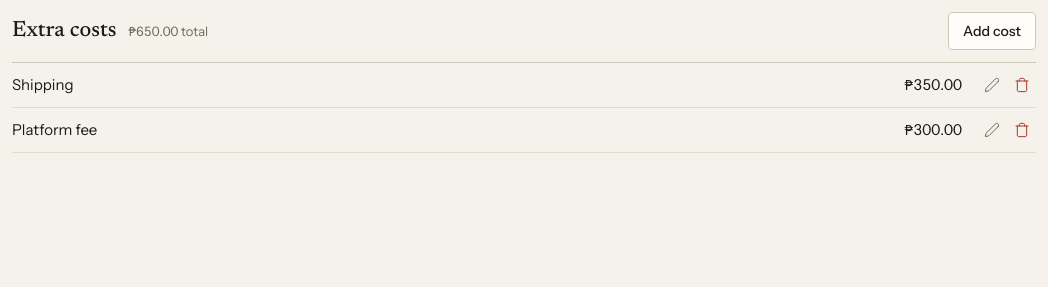
Test: editing a cost patches it and refreshes
The image size is (1048, 287).
Click the button named "Edit Shipping" at (992, 85), box [978,71,1006,99]
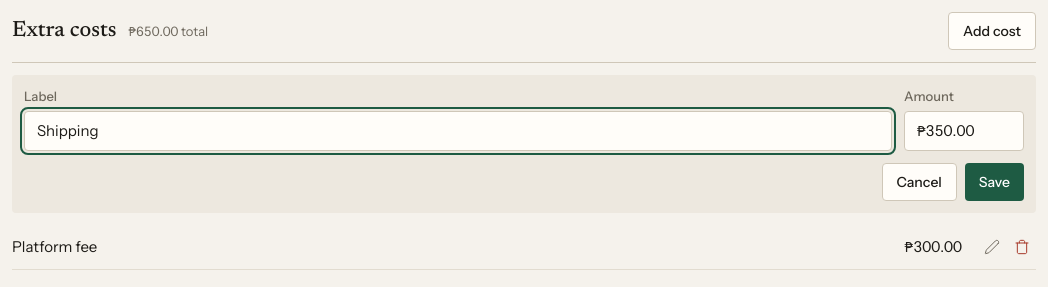
Expected: the field labelled "Amount" holds "₱350.00"
Replace the text in the field labelled "Amount" with "400" at (964, 131), box [904,111,1024,151]
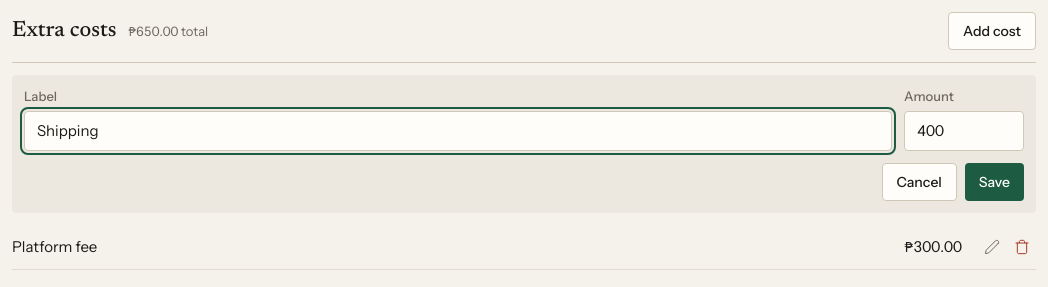
Submit the form named "Edit Shipping", box [12,75,1036,213]
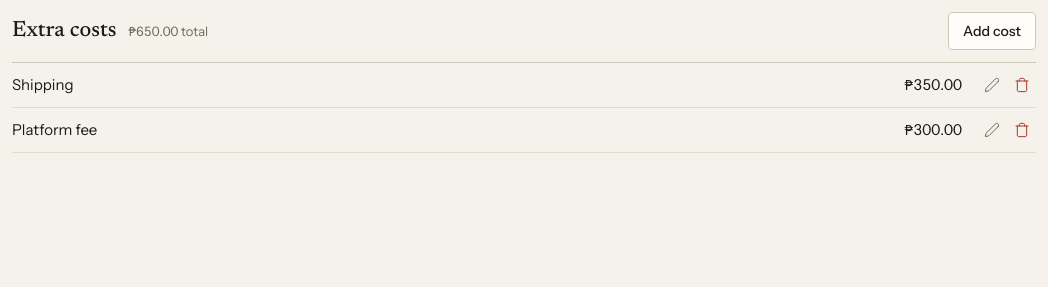
Expected: the form is gone
